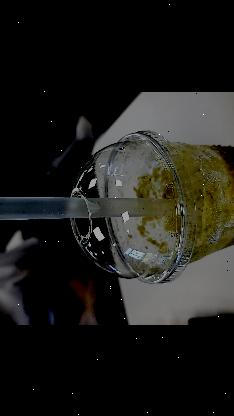Others: (67, 126, 234, 283), (68, 124, 194, 284), (0, 191, 173, 222)
